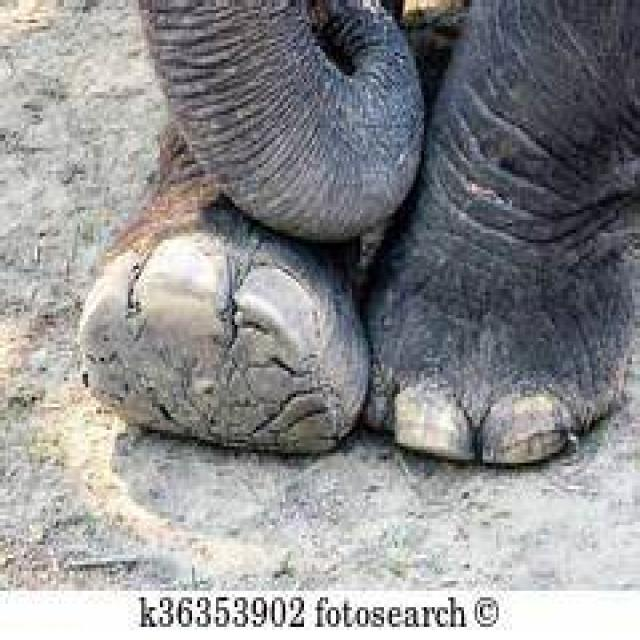elephant: (77, 0, 640, 473)
